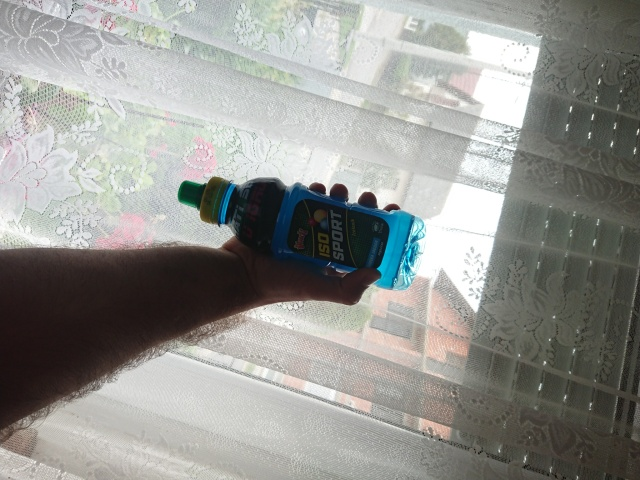Vindi Iso Sport Forest Strawberries 500mL: (175, 174, 427, 293)
